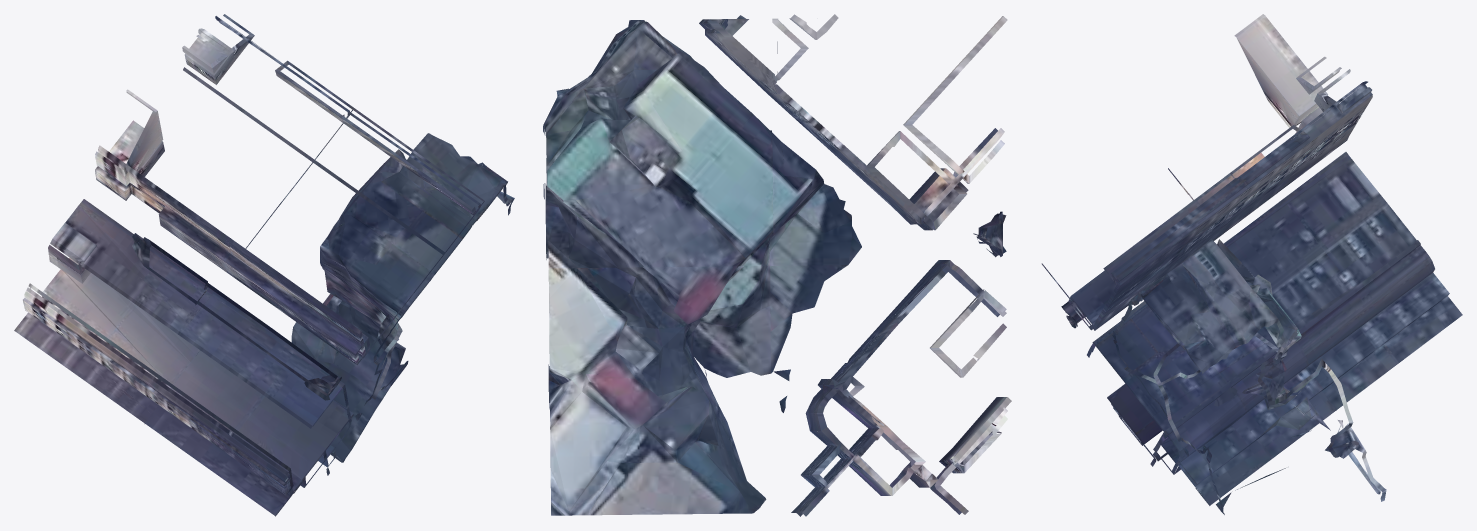
3 renders of one model, left to right at view 1: azimuth 30°, elevation 25°; view 2: azimuth 150°, elevation 25°; view 3: azimuth 270°, elevation 25°, orthographic. The views are drawn at different scales.
Size of the model in its own units: 51.89 by 50.44 by 47.2.
Materials: 3 (3 with a texture image).
